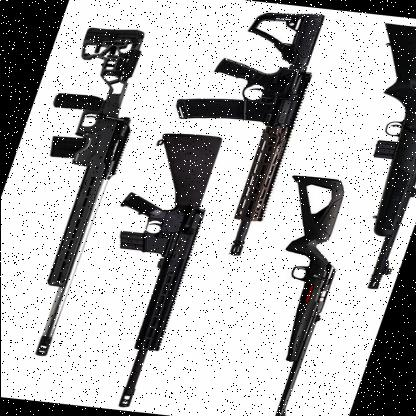rifle: (0, 17, 174, 360), (55, 126, 233, 412), (212, 168, 371, 416), (189, 6, 335, 258), (332, 24, 416, 294)
